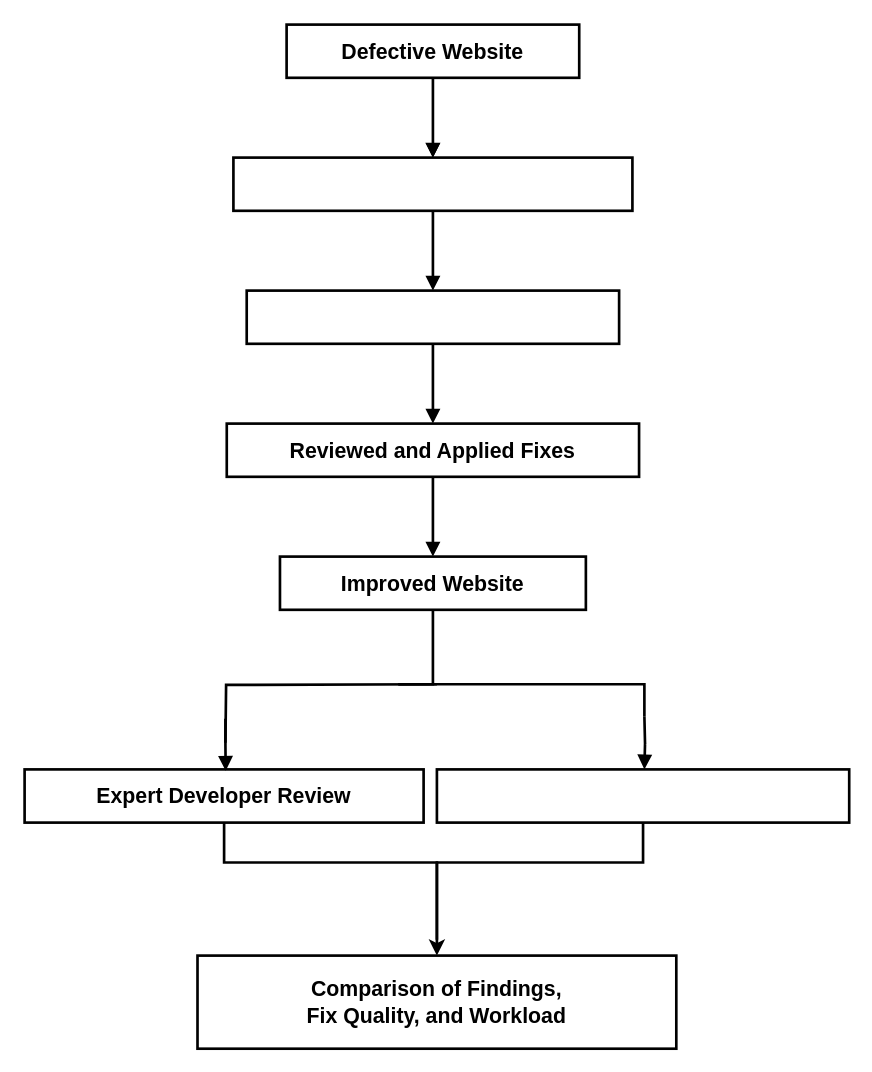
The diagram is 872 pixels wide and 1072 high, and some of its shapes have lost their labels. Here are the shapes that lost their labels. From the top down, the box of each, then its label:
(231, 156, 633, 211): AI Accessibility Assistant
(245, 289, 620, 344): Generated Issue List
(435, 767, 850, 823): User Testing + NASA-TLX
